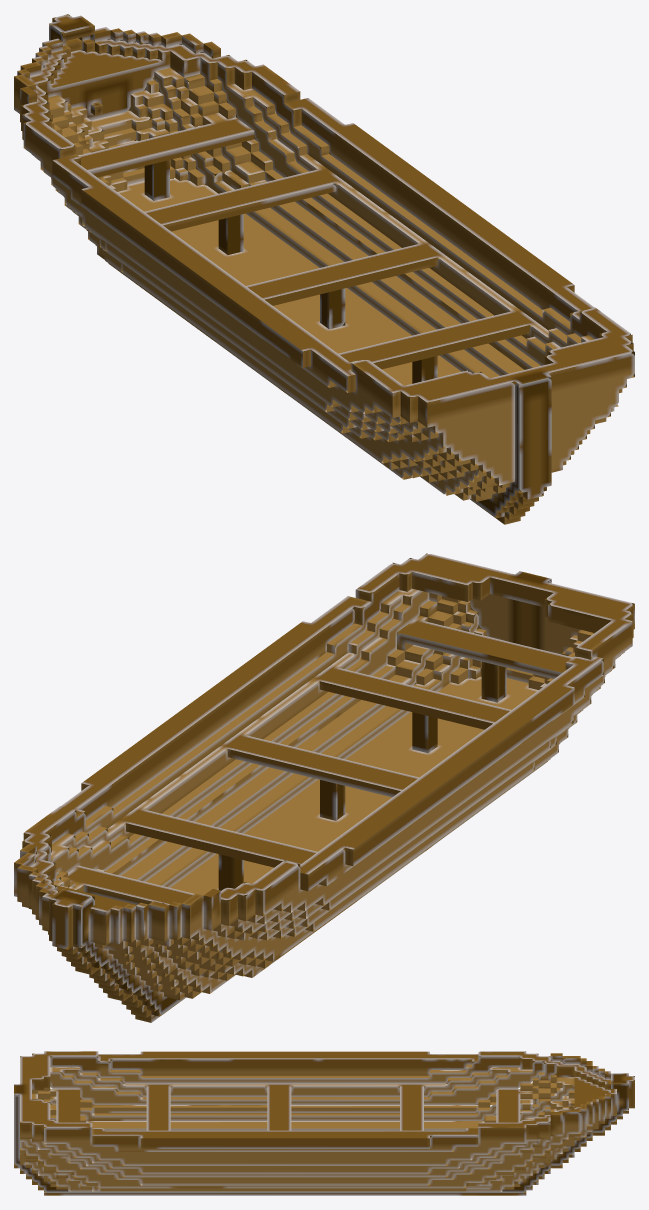
Rendered from Canoa-Nanda.fbx.
3 renders of one model, top to bottom at view 1: azimuth 30°, elevation 25°; view 2: azimuth 150°, elevation 25°; view 3: azimuth 270°, elevation 25°, orthographic. The views are drawn at different scales.
Parts seen in each view (by area): view 1: Canoa-Nanda.001; view 2: Canoa-Nanda.001; view 3: Canoa-Nanda.001.
Part boxes in pixels (bbox=[...]): Canoa-Nanda.001: bbox=[14, 14, 634, 524]; Canoa-Nanda.001: bbox=[14, 553, 634, 1022]; Canoa-Nanda.001: bbox=[14, 1051, 634, 1195].
Bounding box in the file's own units: 3.4 × 2.1 × 10.3.
1 material, 1 textured.
